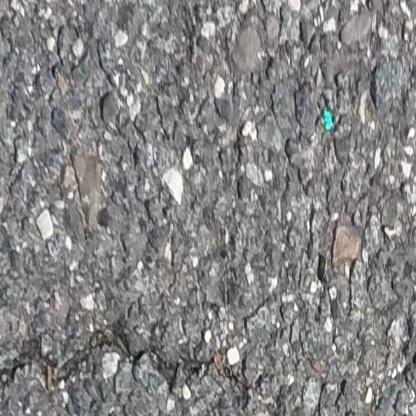Cracks: (0, 315, 255, 408)
